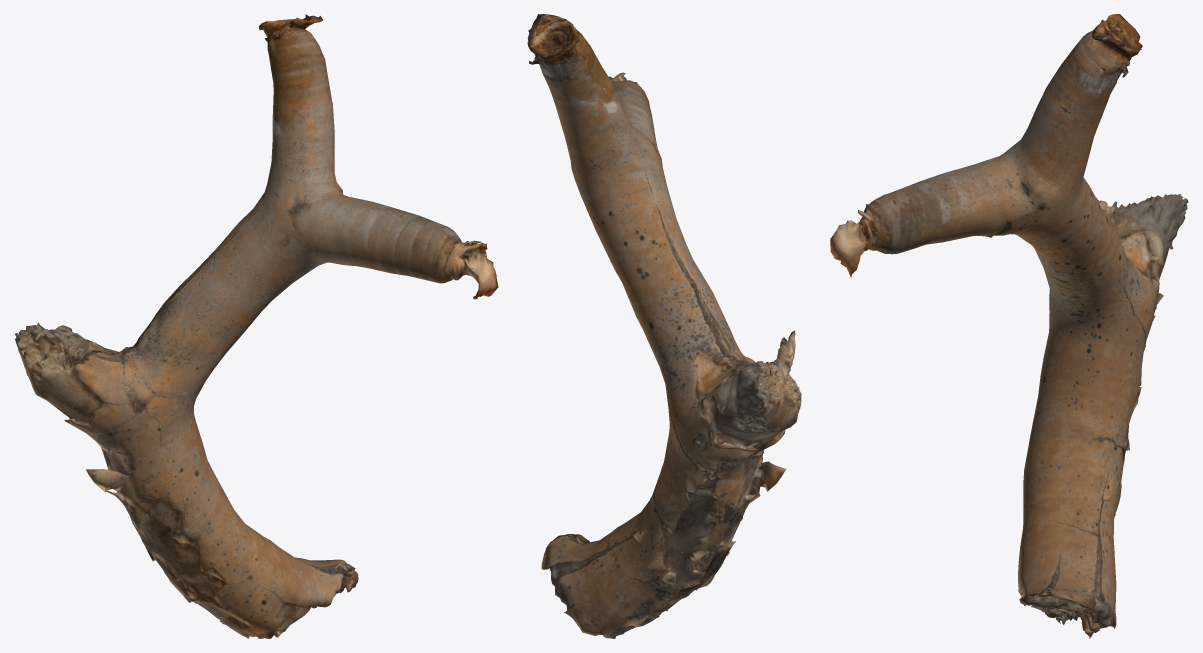
File: dead_quiver_branch_01.glb
3 renders of one model, left to right at view 1: azimuth 30°, elevation 25°; view 2: azimuth 150°, elevation 25°; view 3: azimuth 270°, elevation 25°, orthographic. The views are drawn at different scales.
Parts seen in each view (by area): view 1: dead_quiver_branch_01; view 2: dead_quiver_branch_01; view 3: dead_quiver_branch_01.
Boxes of the visible parts, bbox=[...] form: dead_quiver_branch_01: bbox=[15, 14, 498, 638]; dead_quiver_branch_01: bbox=[527, 14, 801, 638]; dead_quiver_branch_01: bbox=[830, 14, 1188, 638].
Bounding box in the file's own units: 0.2549 × 0.4384 × 0.2268.
1 material, 1 textured.
